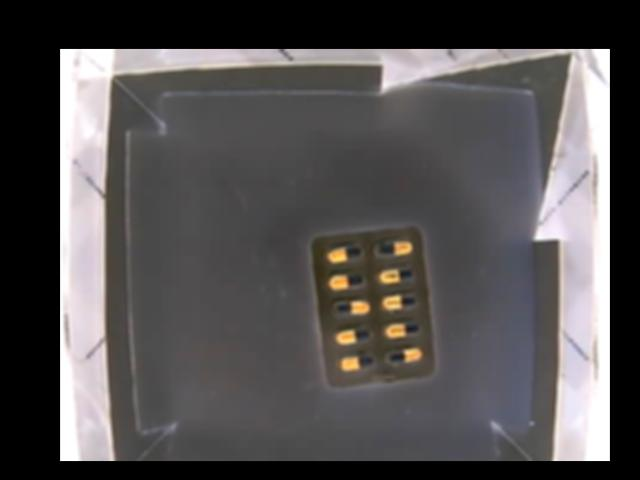Medicine: (309, 223, 435, 388)
